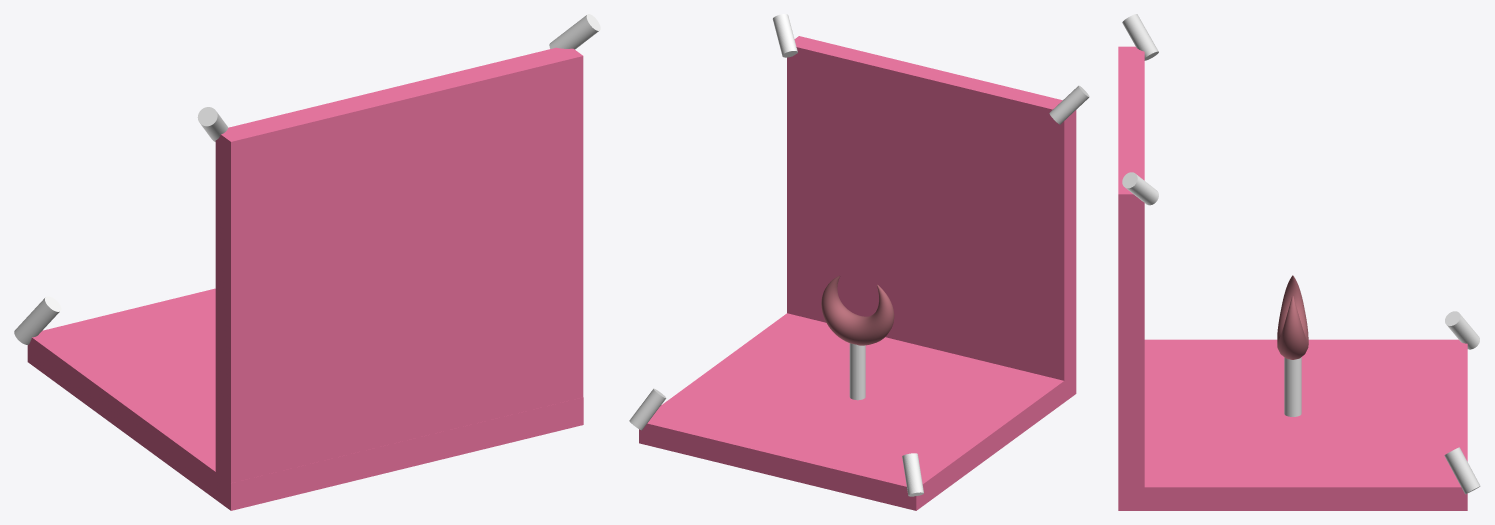
Rendered from MoonStageV2.glb.
The picture shows the model from 3 angles, left to right: view 1: azimuth 30°, elevation 25°; view 2: azimuth 150°, elevation 25°; view 3: azimuth 270°, elevation 25°; orthographic projection. The views are drawn at different scales.
Visible parts, largest first — view 1: Background, Light03, Light01; view 2: Background, Moon, Stand, Light01, Light03, Light04, Light02; view 3: Background, Moon, Stand, Light04, Light02, Light03, Light01.
Boxes of the visible parts, x1,y1,x2,y2 form: Background: [27, 47, 583, 510]; Light03: [14, 296, 61, 344]; Light01: [549, 14, 600, 49]; Background: [639, 36, 1076, 510]; Moon: [821, 275, 894, 345]; Stand: [849, 343, 865, 400]; Light01: [772, 14, 797, 57]; Light03: [902, 453, 923, 496]; Light04: [629, 388, 666, 430]; Light02: [1049, 85, 1089, 124]; Background: [1118, 46, 1467, 510]; Moon: [1277, 275, 1308, 359]; Stand: [1284, 357, 1301, 416]; Light04: [1444, 447, 1480, 494]; Light02: [1122, 14, 1158, 60]; Light03: [1445, 311, 1479, 349]; Light01: [1122, 172, 1158, 205].
Size of the model in its own units: 4.54 by 4.33 by 4.14.
